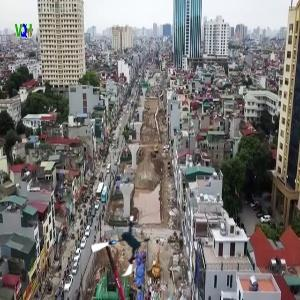drone: (92, 216, 157, 281)
